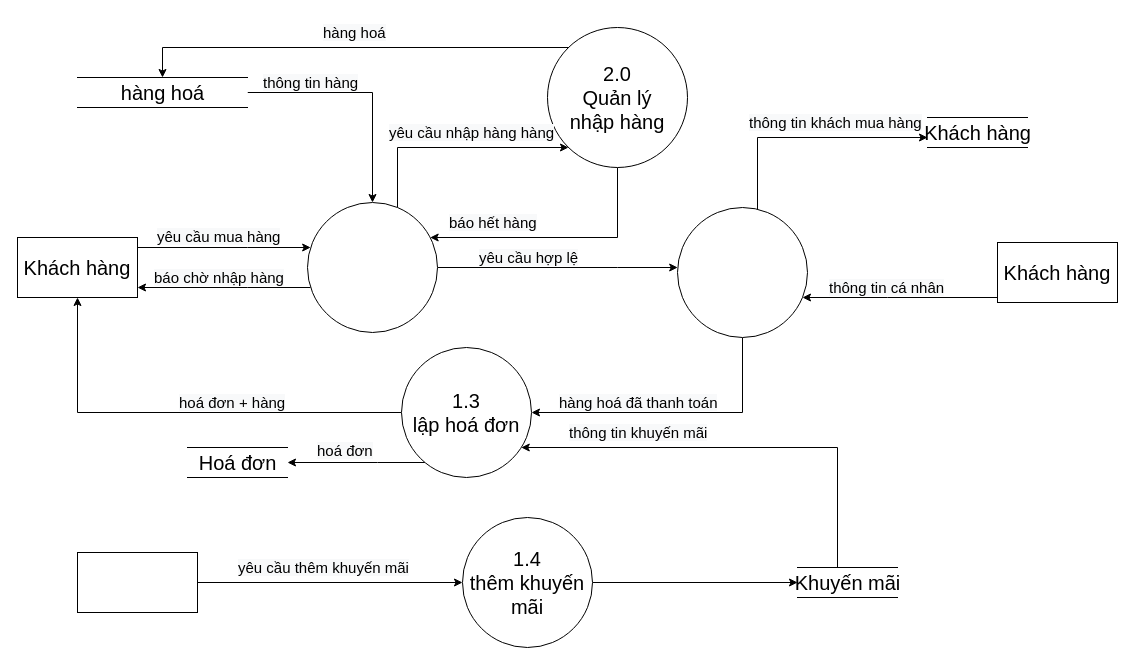
This 1135x665 diagram has some shape labels left out. The shapes that lost their labels are listed below. From the top down, each one's box as (x1, y1, x2, y2) in pixels, then its label:
(306, 202, 438, 332): 1.1 Kiểm tra hàng
(676, 206, 808, 338): 1.2 Thanh toán
(76, 552, 198, 612): Quản lý
